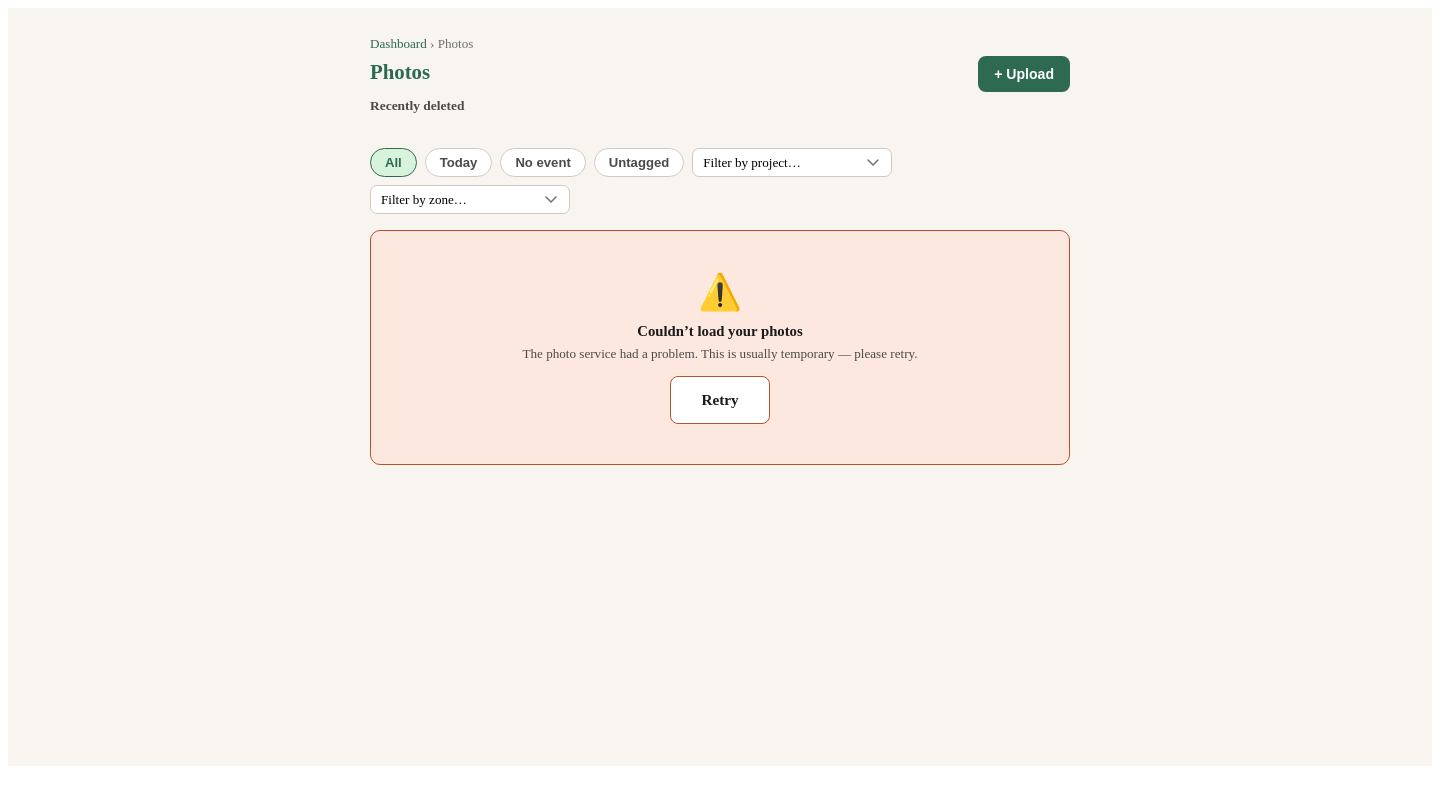
Test: PhotoLibrary — V3-PHOTODBG-001 visible load-failure state › shows a visible error + Retry (not the empty state) when /api/photos fails with a 5xx
The image size is (1440, 810).
Expected: the message shows "load your photos", [637, 323, 803, 339]
Expected: the text "No photos yet" is not shown
Click the button "Retry".
click(720, 400)  # box [670, 376, 770, 424]
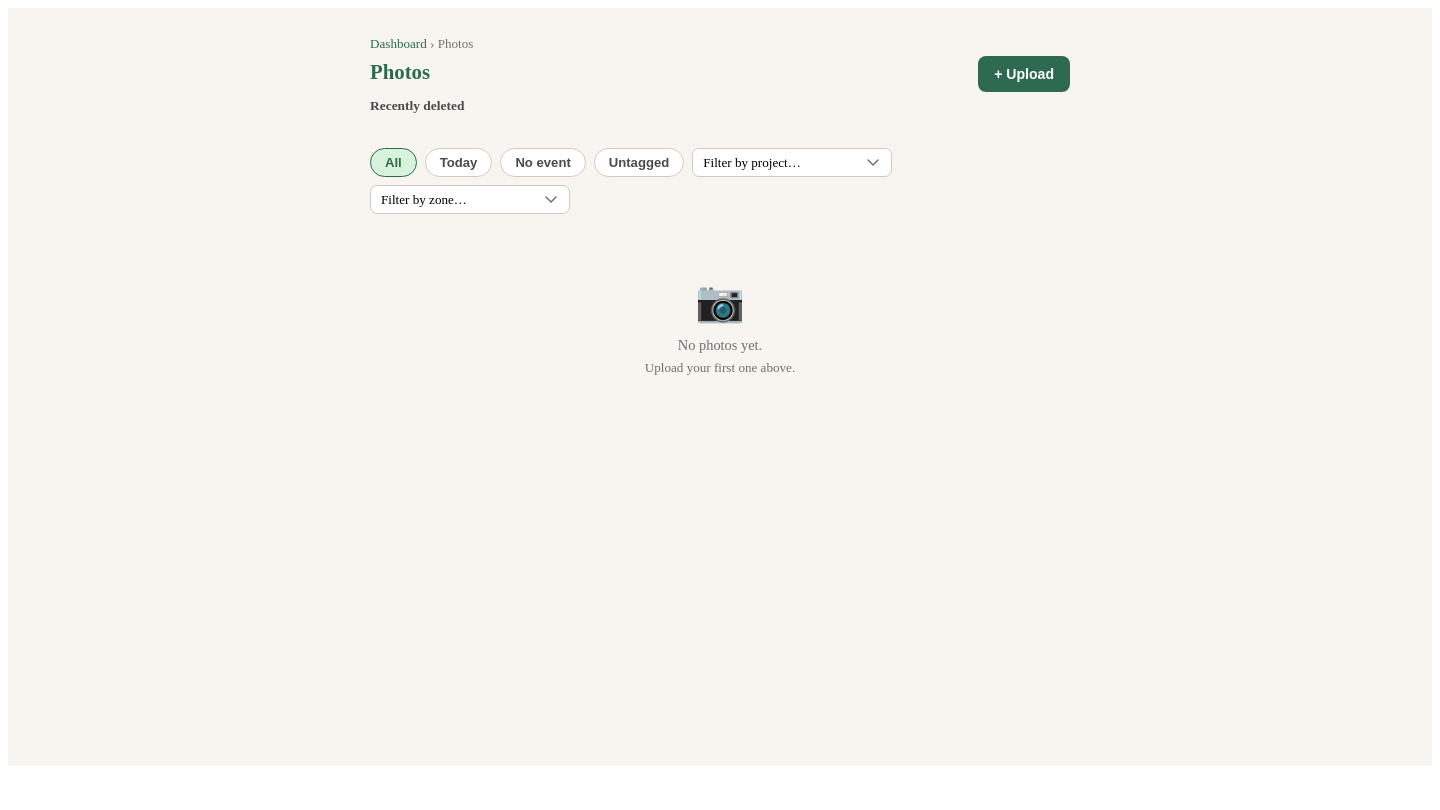
Expected: the message is gone
Expected: the text "No photos yet." is shown, [678, 337, 762, 353]
